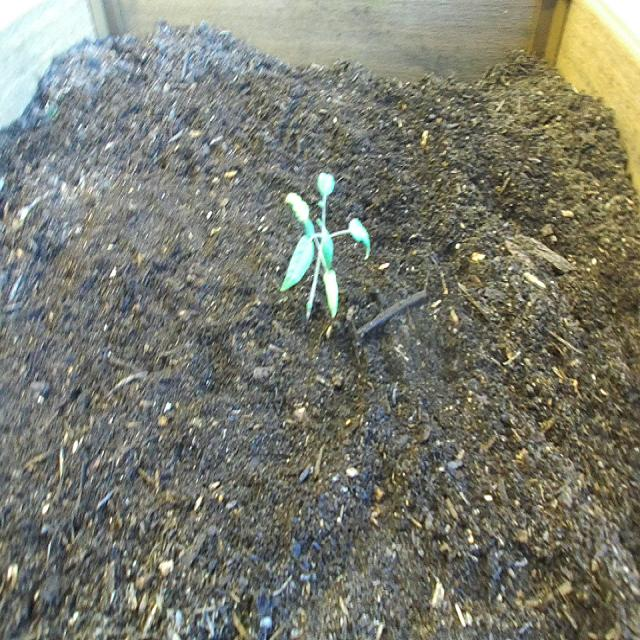Healthy: (276, 170, 374, 336)
